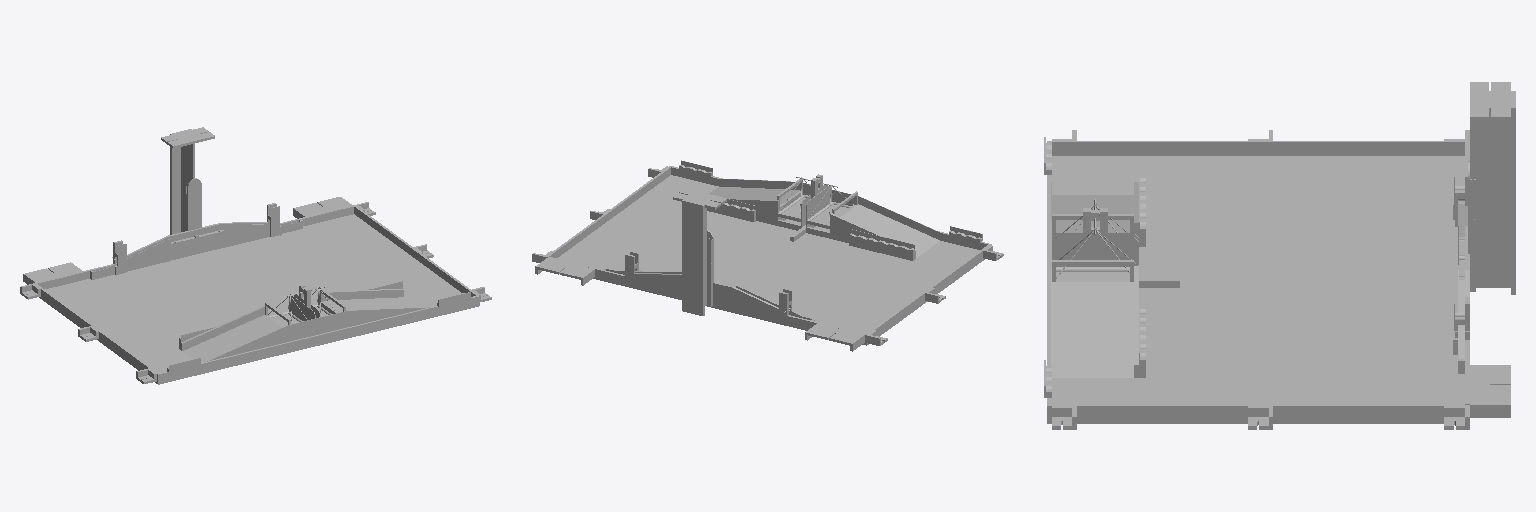
The robot description file, URDF, robot "eurobot2019":
<robot
  name="eurobot2019">
  <link
    name="base_link">
    <inertial>
      <origin
        xyz="1.5 -0.97131 0.064683"
        rpy="0 0 0" />
      <mass
        value="1000" />
      <inertia
        ixx="117.72"
        ixy="0.001115"
        ixz="8.0681E-05"
        iyy="162.37"
        iyz="-6.3727"
        izz="270.51" />
    </inertial>
    <visual>
      <origin
        xyz="0 0 0"
        rpy="0 0 0" />
      <geometry>
        <mesh
          filename="package://eurobot2019/meshes/base_link1.dae" />
      </geometry>
      <material
        name="">
        <color
          rgba="0.75294 0.75294 0.75294 1" />
      </material>
    </visual>
    <collision>
      <origin
        xyz="0 0 0"
        rpy="0 0 0" />
      <geometry>
        <mesh
          filename="package://eurobot2019/meshes/base_link1.dae" />
      </geometry>
    </collision>
  </link>

   <!-- Used for fixing robot to Gazebo 'base_link' -->
  <link name="world"/>

  <joint name="fixed" type="fixed">
    <parent link="world"/>
    <child link="base_link"/>
  </joint>

</robot>

--- Render facts (derived) ---
The picture shows the robot from 3 angles, left to right: view 1: azimuth 30°, elevation 25°; view 2: azimuth 150°, elevation 25°; view 3: azimuth 270°, elevation 25°; orthographic projection.
Model eurobot2019 with 2 links and 1 joints (1 fixed), rooted at world, posed all joints at 0.
Visible links, largest first — view 1: base_link; view 2: base_link; view 3: base_link.
Boxes of the visible links, box(x1,y1,x2,y2) form: base_link: box(20, 127, 491, 384); base_link: box(532, 160, 1003, 351); base_link: box(1044, 82, 1515, 429).
Bounding box of the posed robot: 3.29 × 2.28 × 1.02 m (x, y, z).
1 mesh visuals loaded from 1 distinct referenced files (1 Collada DAE).